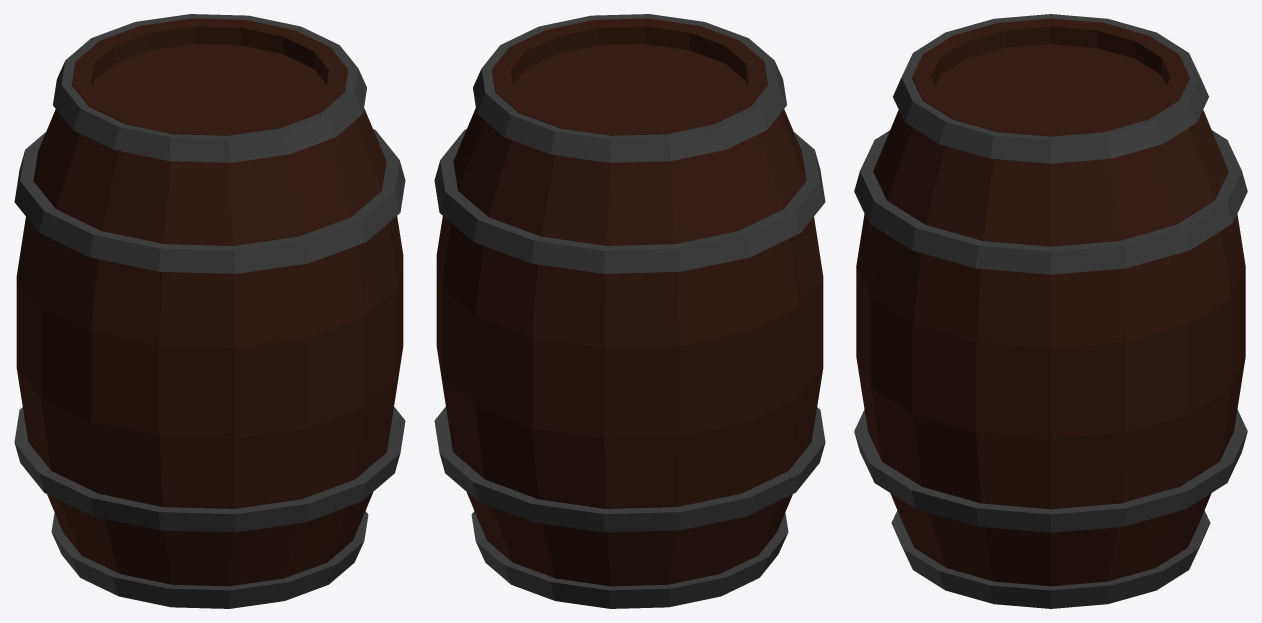
Rendered from Barril.gltf.
3 views of the same model, side by side, from view 1: azimuth 30°, elevation 25°; view 2: azimuth 150°, elevation 25°; view 3: azimuth 270°, elevation 25° (orthographic).
Visible parts, largest first — view 1: Barril.004; view 2: Barril.004; view 3: Barril.004.
Boxes of the visible parts, box(x1,y1,x2,y2) form: Barril.004: box(14, 14, 405, 608); Barril.004: box(434, 14, 825, 608); Barril.004: box(854, 14, 1247, 608).
Bounding box in the file's own units: 0.2117 × 0.278 × 0.2117.
